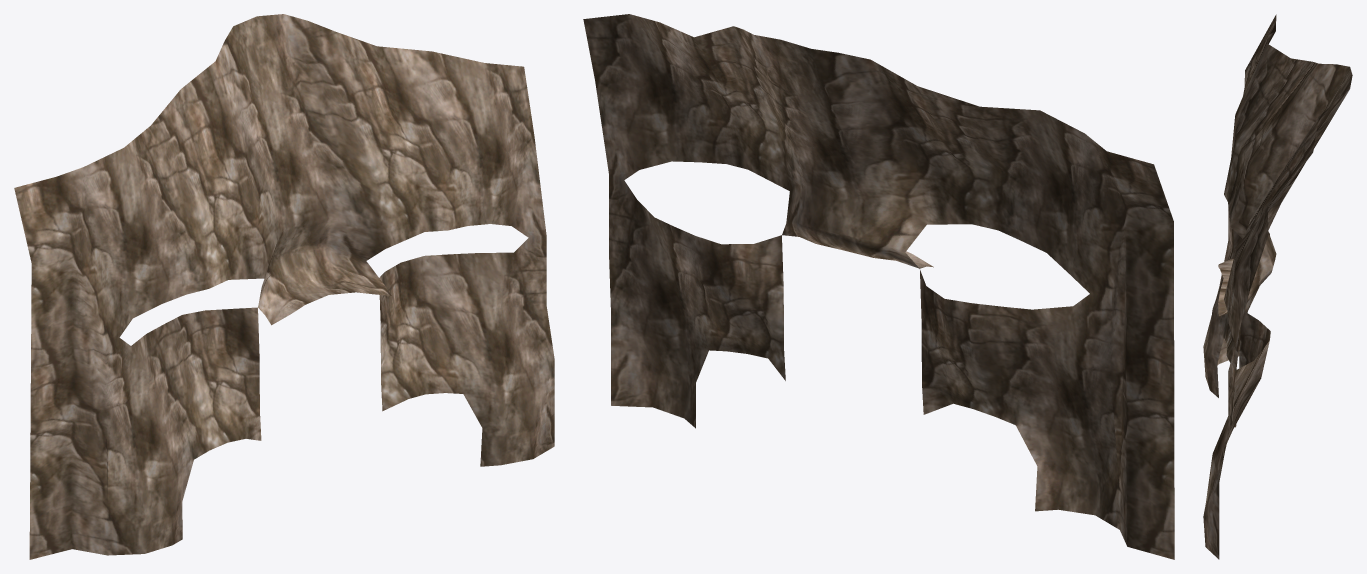
File: EKH_ENTRANCE_PS_EN_WALL_005.fbx
The picture shows the model from 3 angles, left to right: view 1: azimuth 30°, elevation 25°; view 2: azimuth 150°, elevation 25°; view 3: azimuth 270°, elevation 25°; orthographic projection. The views are drawn at different scales.
Visible parts, largest first — view 1: EKH_ENTRANCE_PS_EN_WALL_005; view 2: EKH_ENTRANCE_PS_EN_WALL_005; view 3: EKH_ENTRANCE_PS_EN_WALL_005.
Boxes of the visible parts, x1=… form: EKH_ENTRANCE_PS_EN_WALL_005: x1=14, y1=14, x2=554, y2=559; EKH_ENTRANCE_PS_EN_WALL_005: x1=583, y1=14, x2=1174, y2=559; EKH_ENTRANCE_PS_EN_WALL_005: x1=1203, y1=14, x2=1352, y2=559.
Bounding box in the file's own units: 233724 × 189291 × 65906.
1 material, 1 textured.
